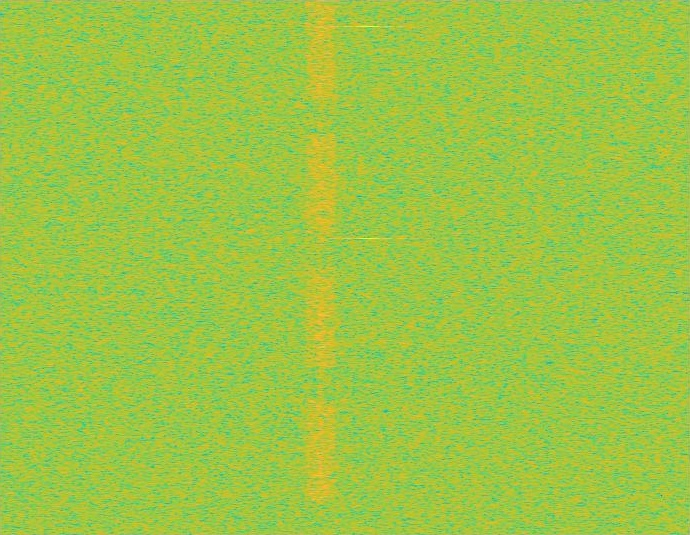5G: (304, 0, 338, 534)
DSSS: (319, 0, 323, 534)
Radar: (361, 0, 375, 534)
